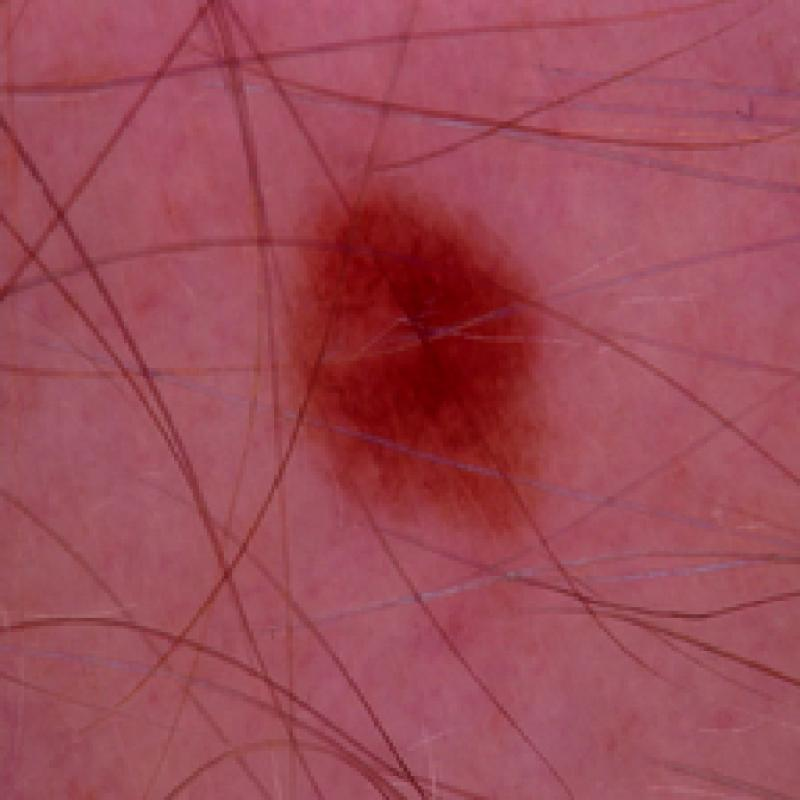benign: (276, 171, 558, 541)
